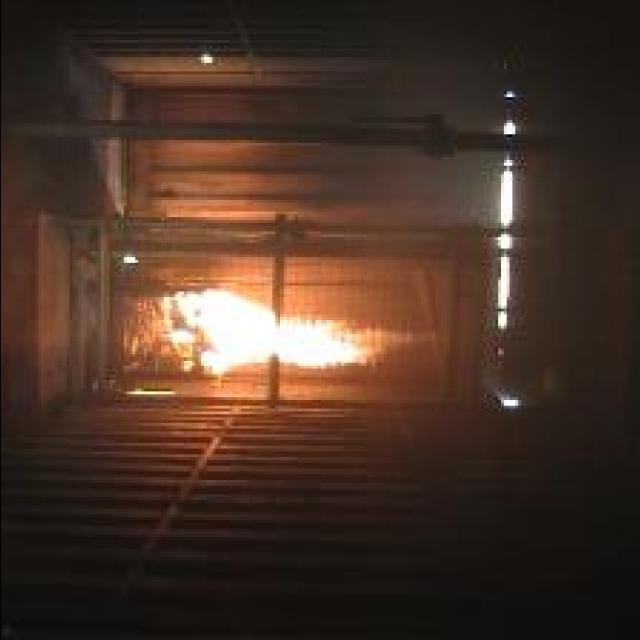Fire: (160, 288, 434, 374)
